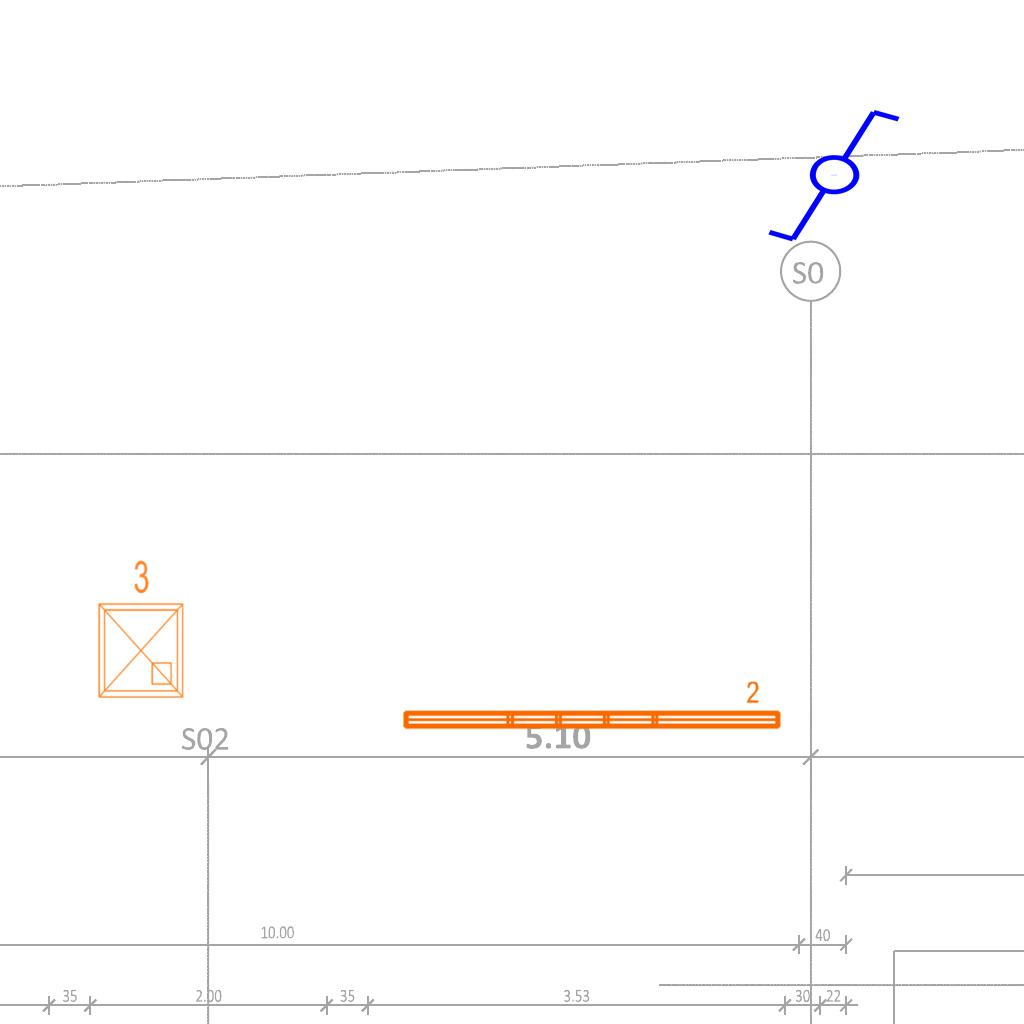Ambulanz_Pendelleuchte_LED: (398, 679, 785, 735)
Einbaudownlights_LED_Konferenzraeume: (87, 555, 191, 705)
Wechselschalter: (764, 105, 921, 249)
